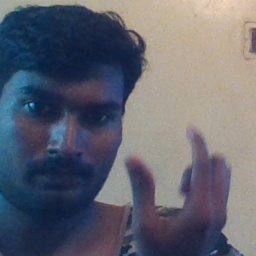U: (123, 125, 234, 253)
